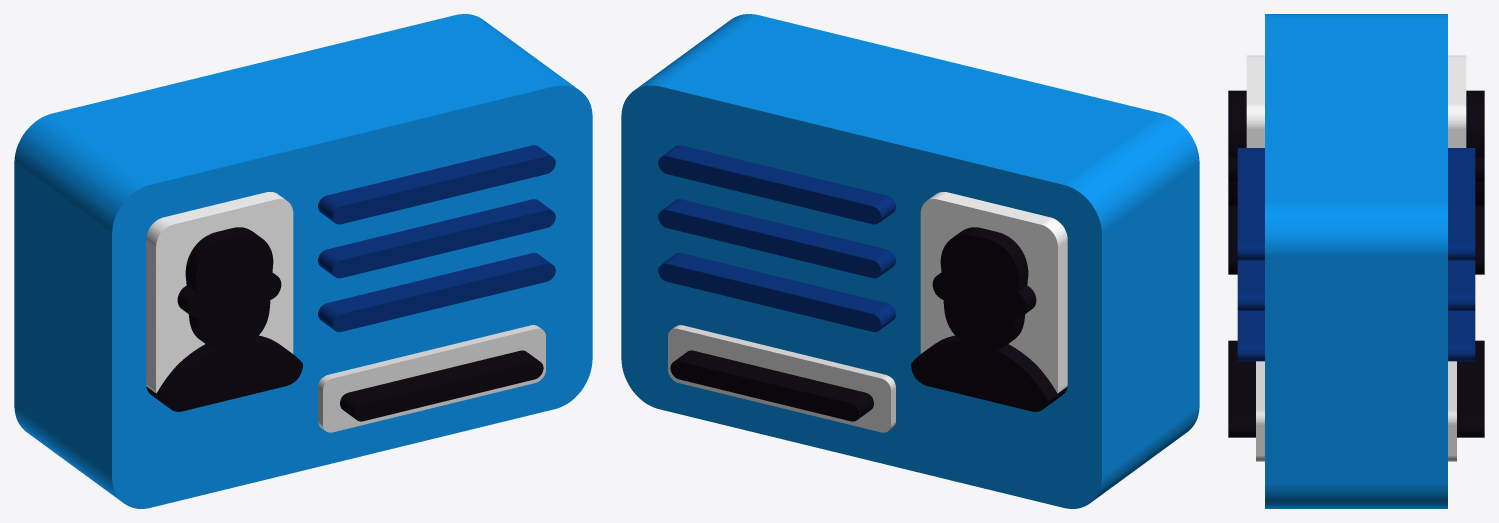
The model's file is U+1FAAA.obj.
3 renders of one model, left to right at view 1: azimuth 30°, elevation 25°; view 2: azimuth 150°, elevation 25°; view 3: azimuth 270°, elevation 25°, orthographic. The views are drawn at different scales.
Visible parts, largest first — view 1: U+1FAAA_layer00_obj00, U+1FAAA_layer04_obj00, U+1FAAA_layer03_obj00, U+1FAAA_layer02_obj00, U+1FAAA_layer01_obj00; view 2: U+1FAAA_layer00_obj00, U+1FAAA_layer04_obj00, U+1FAAA_layer03_obj00, U+1FAAA_layer02_obj00, U+1FAAA_layer01_obj00; view 3: U+1FAAA_layer00_obj00, U+1FAAA_layer03_obj00, U+1FAAA_layer04_obj00, U+1FAAA_layer02_obj00, U+1FAAA_layer01_obj00.
Boxes of the visible parts, bbox=[...] form: U+1FAAA_layer00_obj00: bbox=[14, 14, 592, 508]; U+1FAAA_layer04_obj00: bbox=[146, 227, 543, 421]; U+1FAAA_layer03_obj00: bbox=[318, 145, 555, 332]; U+1FAAA_layer02_obj00: bbox=[146, 192, 293, 393]; U+1FAAA_layer01_obj00: bbox=[318, 325, 545, 432]; U+1FAAA_layer00_obj00: bbox=[621, 14, 1199, 508]; U+1FAAA_layer04_obj00: bbox=[670, 227, 1067, 421]; U+1FAAA_layer03_obj00: bbox=[658, 145, 895, 332]; U+1FAAA_layer02_obj00: bbox=[920, 192, 1067, 393]; U+1FAAA_layer01_obj00: bbox=[668, 325, 895, 432]; U+1FAAA_layer00_obj00: bbox=[1265, 14, 1447, 508]; U+1FAAA_layer03_obj00: bbox=[1237, 148, 1475, 361]; U+1FAAA_layer04_obj00: bbox=[1228, 90, 1484, 437]; U+1FAAA_layer02_obj00: bbox=[1246, 55, 1466, 147]; U+1FAAA_layer01_obj00: bbox=[1256, 361, 1456, 461].
Bounding box in the file's own units: 0.5678 × 0.3648 × 0.28.
